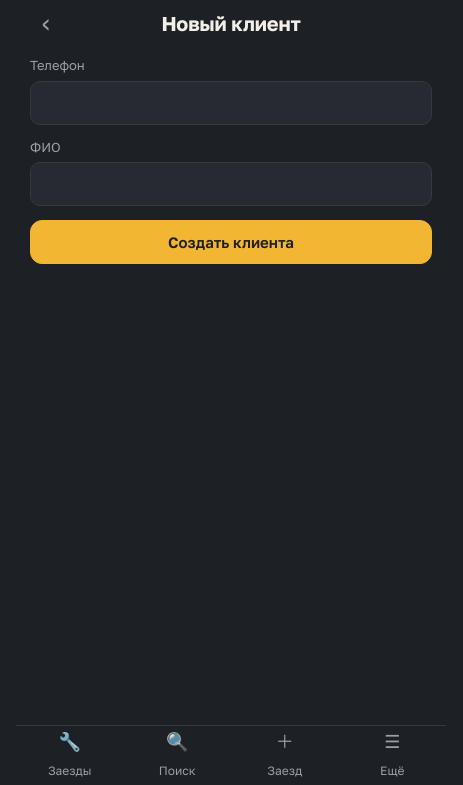
Scenario: new client: bad phone blocked locally, 409 shown at phone
Type "123" into the field labelled "Телефон" at (231,102), box [30,80,432,124]
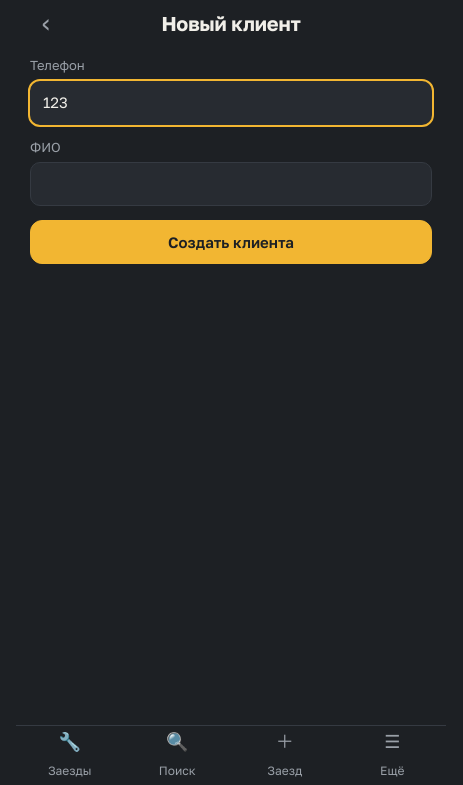
Type "Петров Иван" into the field labelled "ФИО" at (231,184), box [30,162,432,206]
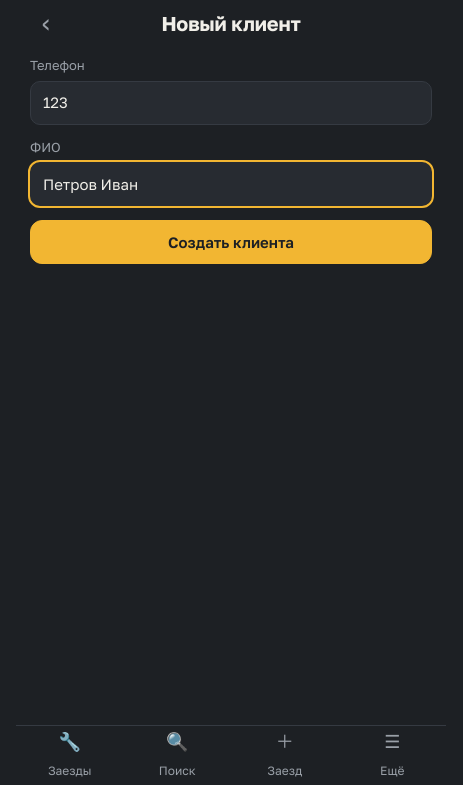
Click the button "Создать клиента" at (231,242), box [30,220,432,264]
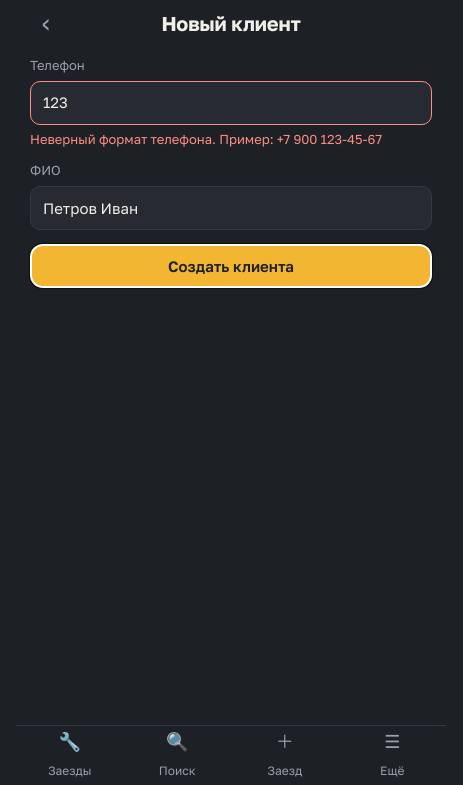
Check: the text "Неверный формат телефона. Пример: +7 900 123-45-67" is shown, box [30,130,432,148]
Replace the text in the field labelled "Телефон" with "+7 900 123-45-67" at (231,102), box [30,80,432,124]
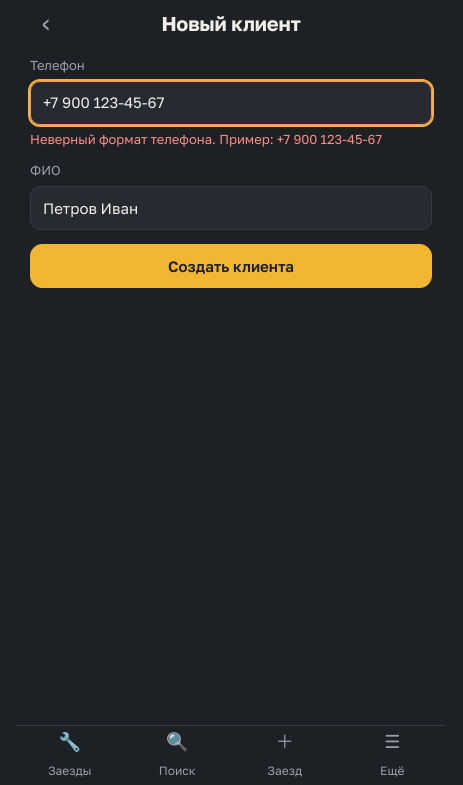
Click the button "Создать клиента" at (231,266), box [30,244,432,288]
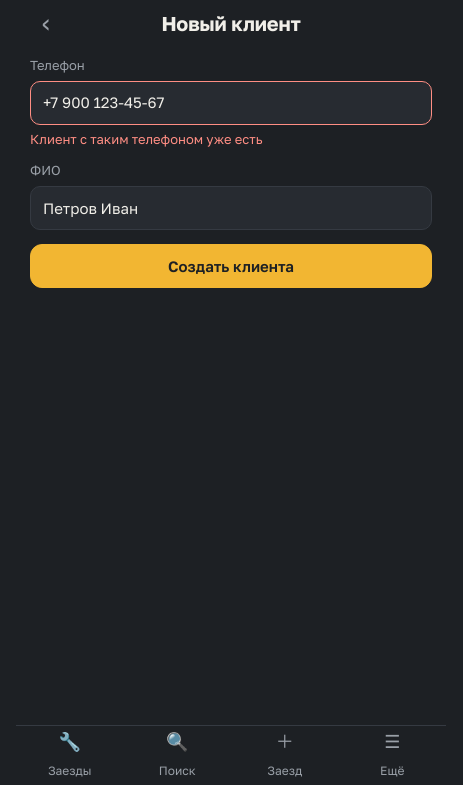
Check: the text "Клиент с таким телефоном уже есть" is shown, box [30,130,262,146]
